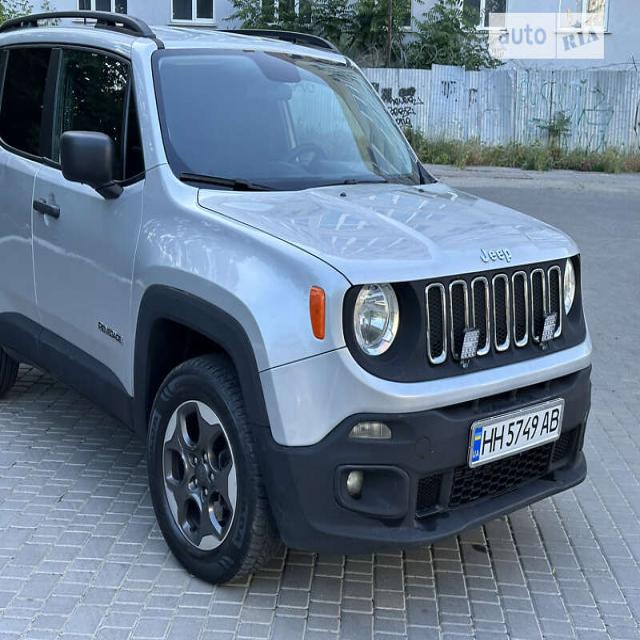plate: (462, 401, 569, 475)
